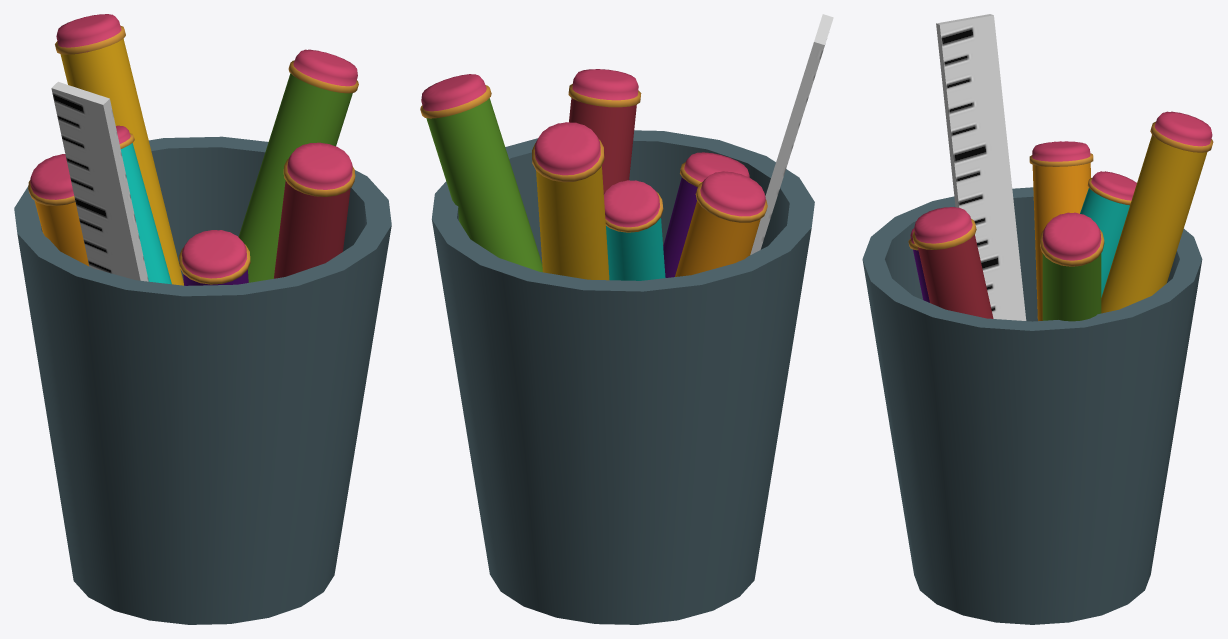
File: pencil_case_model_c.glb
3 views of the same model, side by side, from view 1: azimuth 30°, elevation 25°; view 2: azimuth 150°, elevation 25°; view 3: azimuth 270°, elevation 25° (orthographic). The views are drawn at different scales.
Parts seen in each view (by area): view 1: pCylinder8; view 2: pCylinder8; view 3: pCylinder8.
Part boxes in pixels (x1,y1,x2,y2): pCylinder8: [14, 14, 391, 624]; pCylinder8: [420, 14, 833, 624]; pCylinder8: [862, 14, 1213, 624].
Bounding box in the file's own units: 8.84 × 13.2 × 8.62.
Materials: 1 (1 with a texture image).
